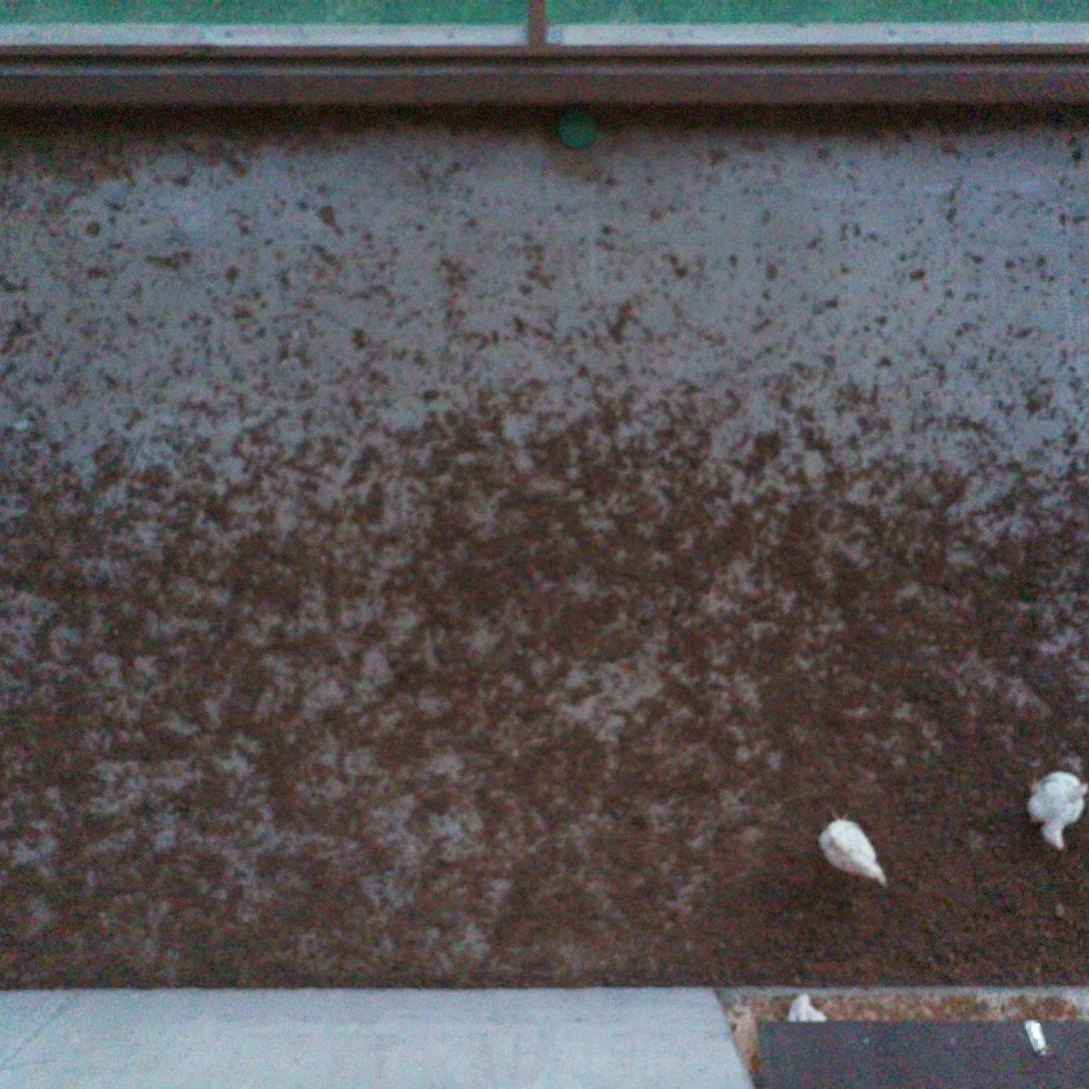chicken: (820, 811, 890, 889), (1025, 770, 1089, 853), (789, 992, 827, 1023)
